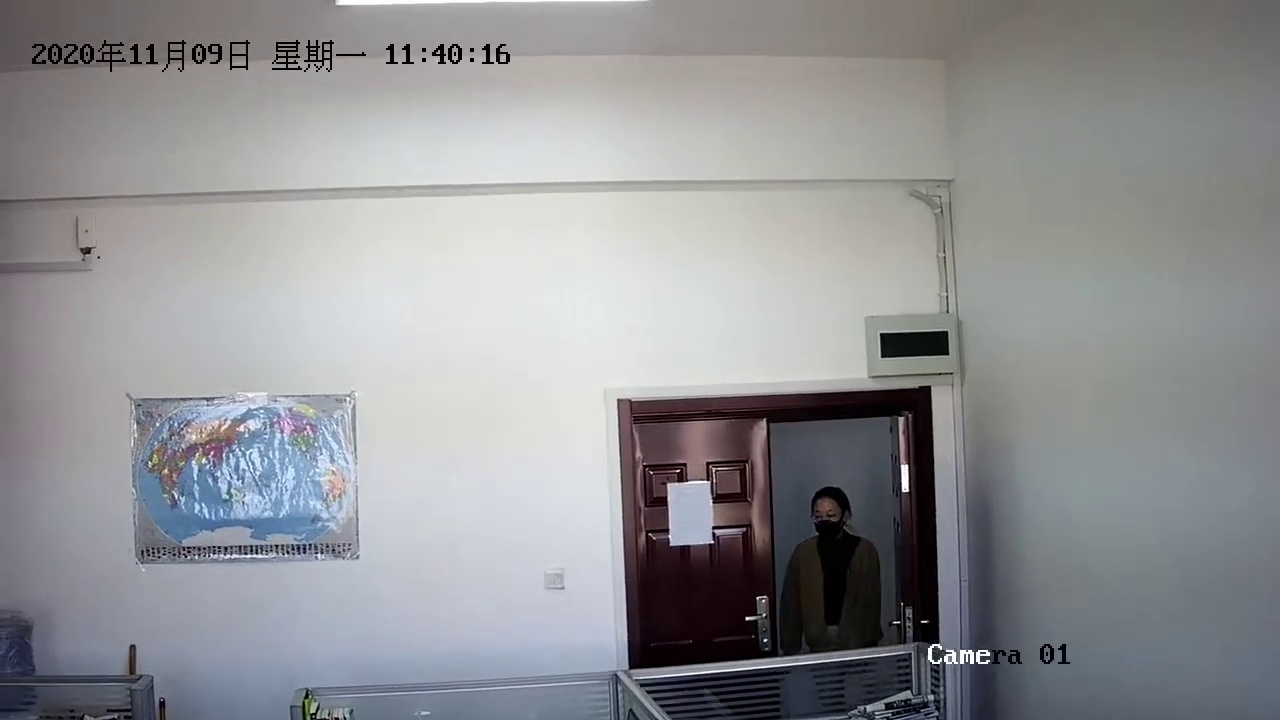mask: (809, 489, 851, 540)
